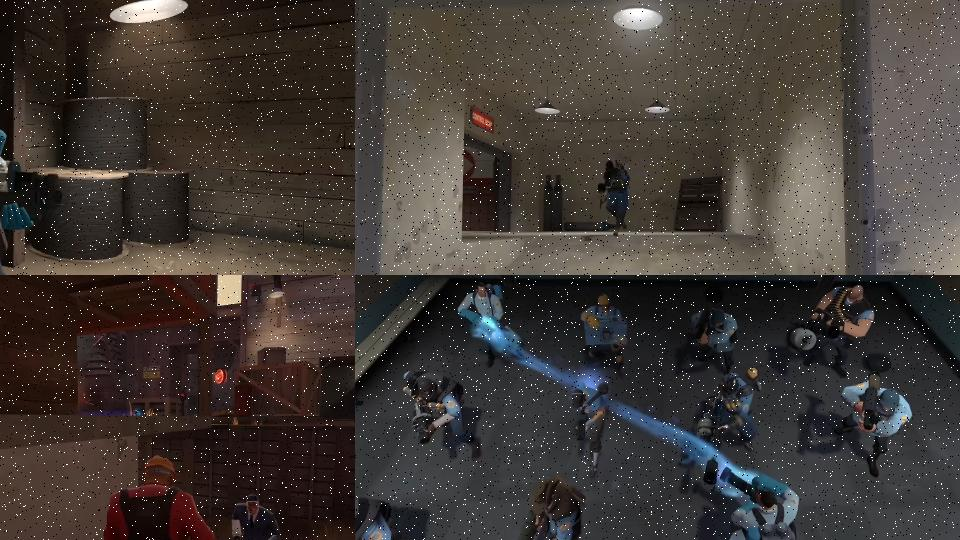Enemy: (0, 104, 66, 275), (101, 448, 220, 540), (833, 351, 915, 480), (784, 280, 877, 380), (693, 364, 764, 488), (401, 368, 490, 460), (498, 469, 595, 540), (711, 465, 802, 540), (456, 280, 528, 367), (579, 292, 632, 383), (690, 283, 740, 378), (570, 382, 612, 479), (355, 491, 425, 540), (218, 489, 285, 540), (597, 159, 632, 237)
